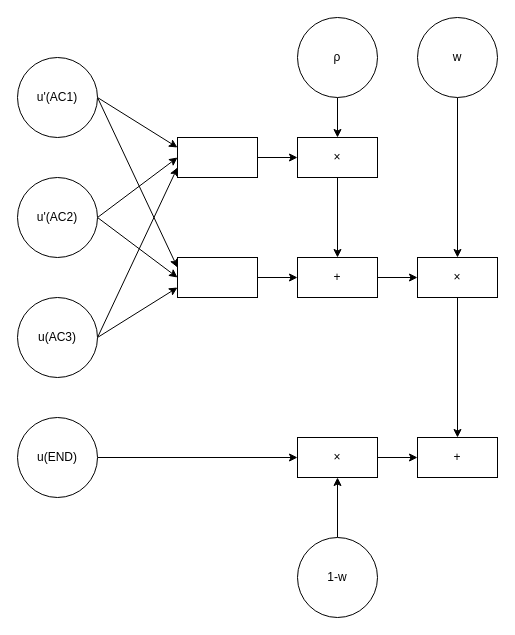
Image size: 515x635. Some labels were removed from this diagram. The shapes that lost their labels are listed below. From the top down, each one's centre as x and y in pixels, then its label:
(x=217, y=157): std
(x=217, y=277): mean
